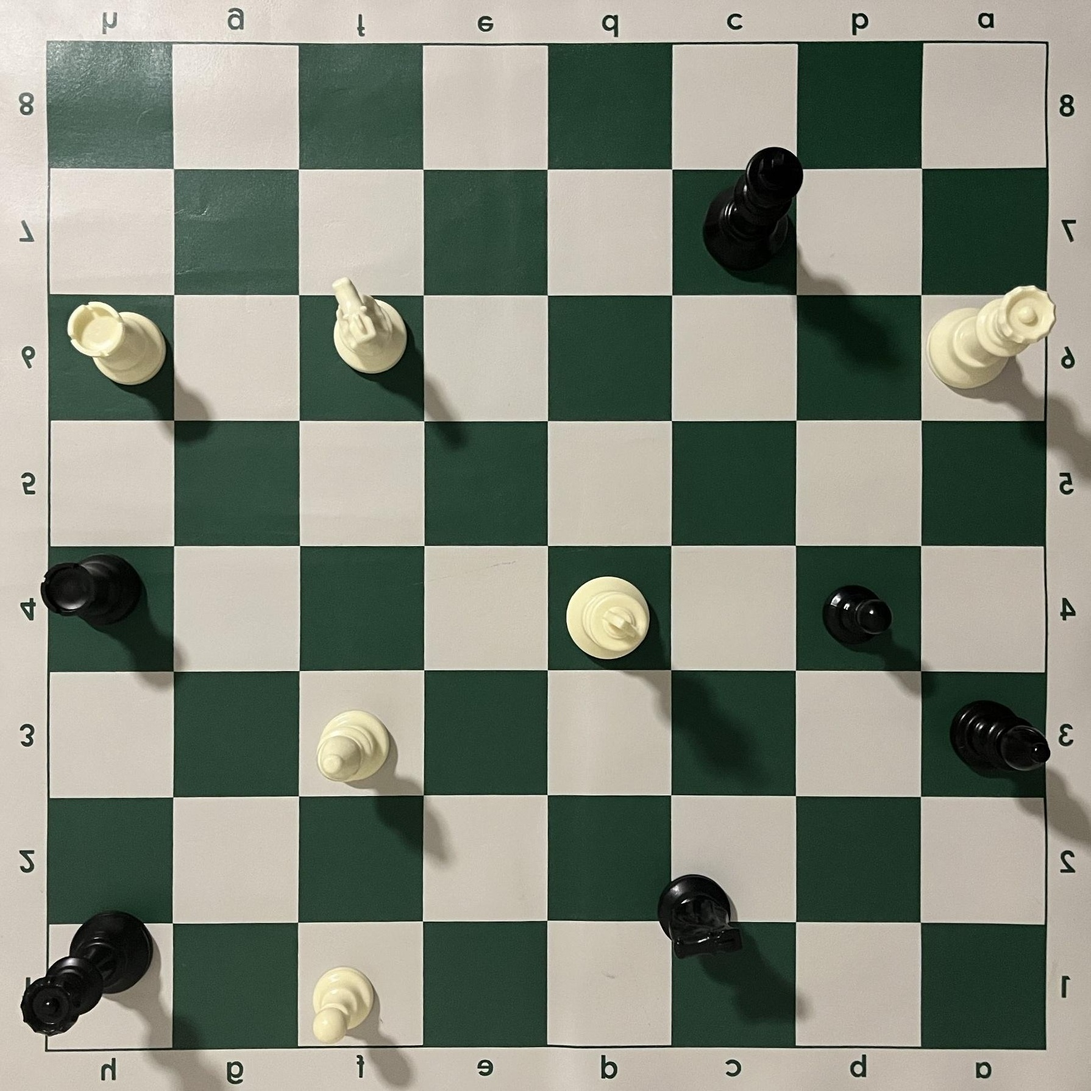black_bishop: (950, 700, 1051, 775)
black_king: (703, 146, 804, 272)
black_knight: (656, 873, 744, 959)
black_pawn: (821, 585, 894, 645)
black_queen: (20, 909, 153, 1037)
black_rook: (40, 553, 142, 624)
white_bishop: (316, 710, 391, 784)
white_king: (566, 576, 652, 660)
white_knight: (332, 277, 408, 374)
white_pawn: (311, 966, 375, 1046)
white_queen: (925, 286, 1057, 389)
white_rook: (67, 301, 167, 387)
